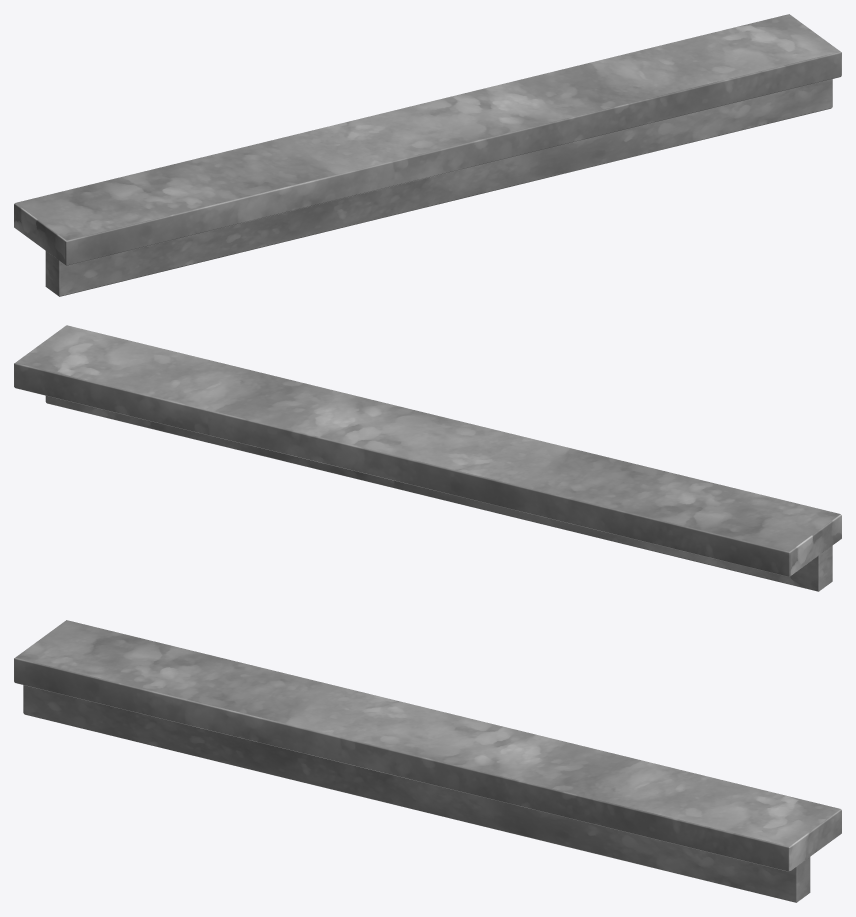
The model's file is SM_StepStair_01b.fbx.
The picture shows the model from 3 angles, top to bottom: view 1: azimuth 30°, elevation 25°; view 2: azimuth 150°, elevation 25°; view 3: azimuth 330°, elevation 25°; orthographic projection.
Parts seen in each view (by area): view 1: SM_StepStair_01b_LOD0; view 2: SM_StepStair_01b_LOD0; view 3: SM_StepStair_01b_LOD0.
Boxes of the visible parts, x1,y1,x2,y2 form: SM_StepStair_01b_LOD0: (14,14,841,296); SM_StepStair_01b_LOD0: (14,325,841,591); SM_StepStair_01b_LOD0: (14,620,841,902).
Size of the model in its own units: 320 by 37.67 by 24.7.
